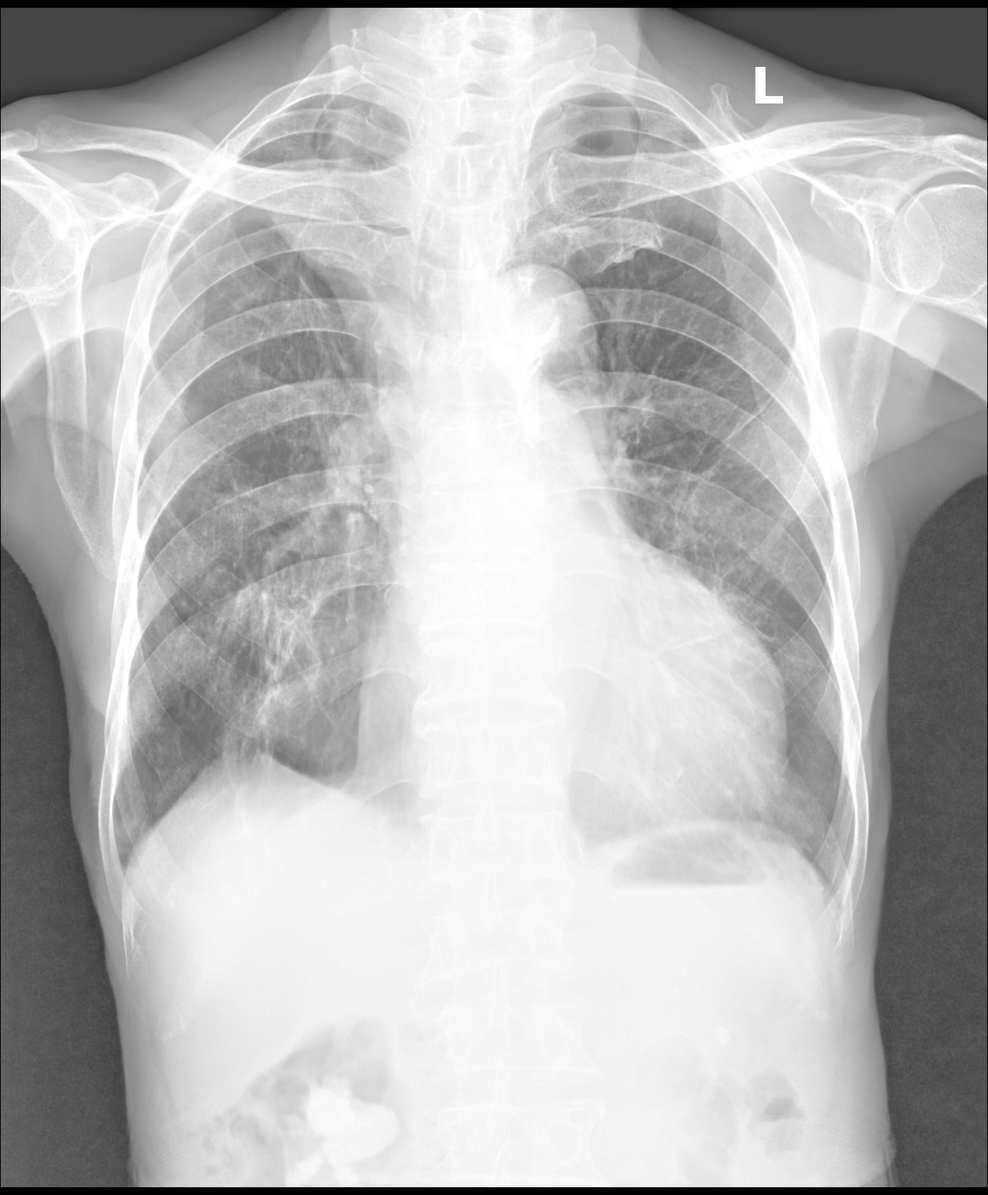Aortic enlargement: (476, 270, 593, 399)
Cardiomegaly: (349, 665, 791, 848)
Pleural thickening: (820, 865, 846, 923)
Pulmonary fibrosis: (213, 560, 320, 771), (239, 235, 352, 399), (704, 380, 775, 501)
